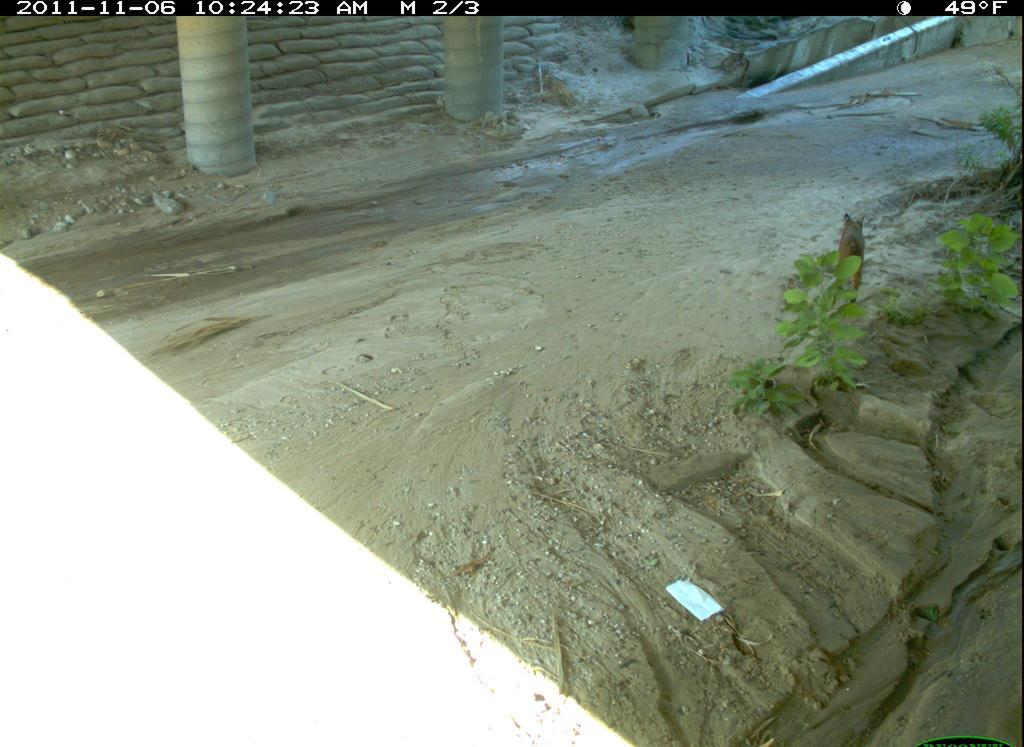bobcat: (829, 205, 873, 306)
